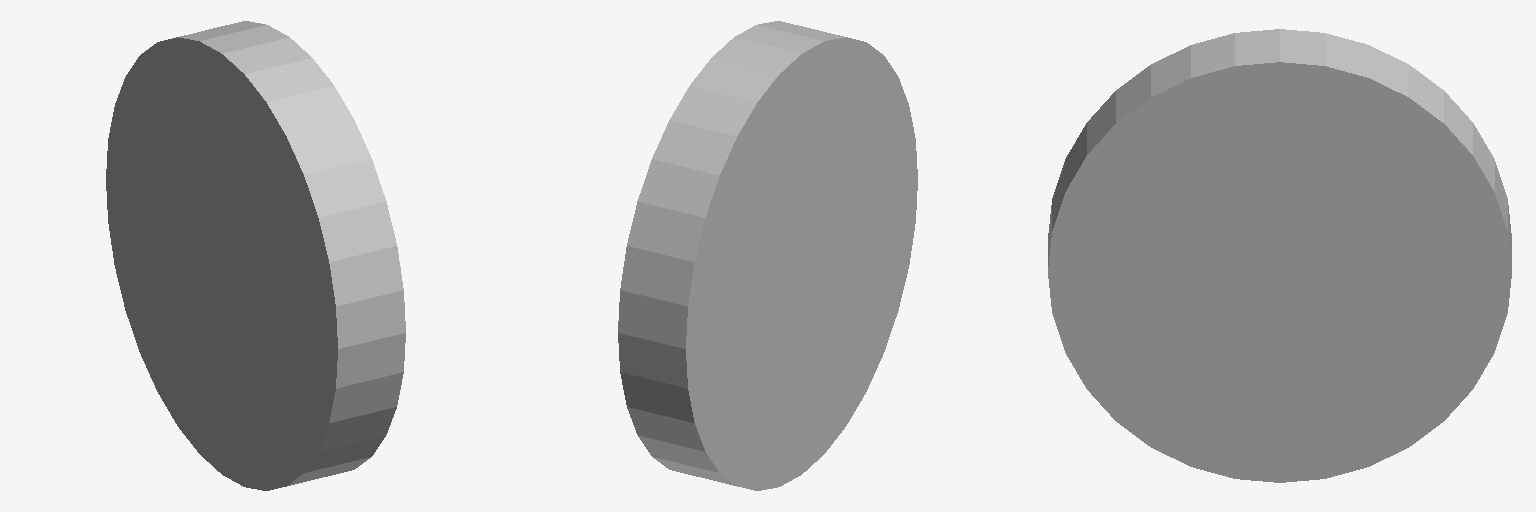
File: EndingPart.obj
3 views of the same model, side by side, from view 1: azimuth 30°, elevation 25°; view 2: azimuth 150°, elevation 25°; view 3: azimuth 270°, elevation 25° (orthographic).
Parts seen in each view (by area): view 1: Ending; view 2: Ending; view 3: Ending.
Part boxes in pixels (x1,y1,x2,y2): Ending: (106,21,405,490); Ending: (618,21,917,490); Ending: (1048,29,1511,482).
Size of the model in its own units: 17.03 by 101 by 101.